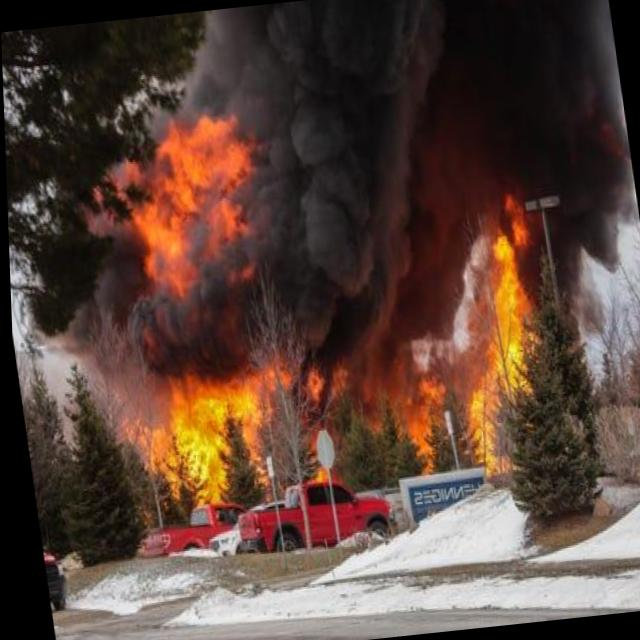fire: (76, 94, 281, 320), (103, 350, 339, 525), (431, 192, 565, 494), (362, 364, 461, 479), (314, 352, 353, 403)
